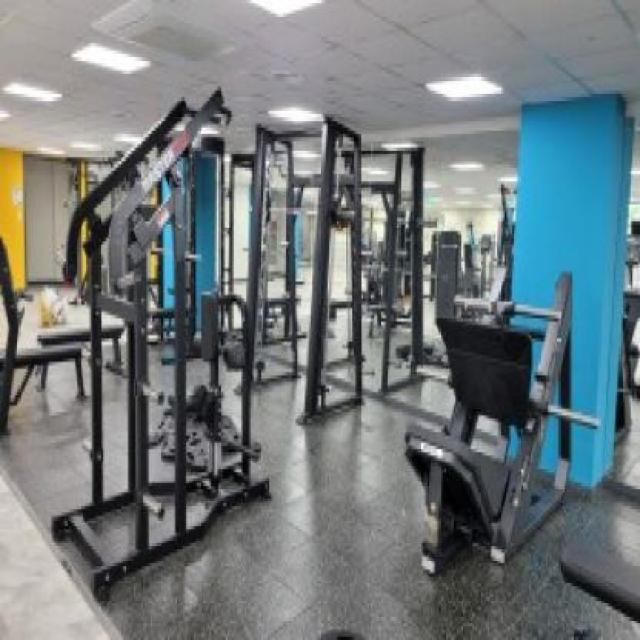chinning dipping: (37, 166, 292, 583)
